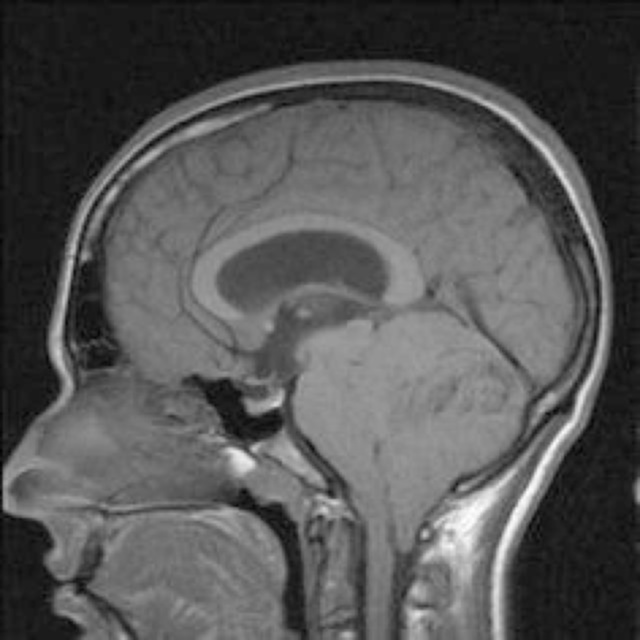glioma tumor: (111, 155, 496, 570)
